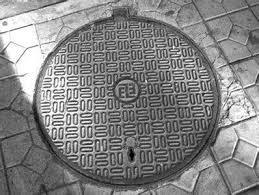wellcover: (30, 1, 228, 192)
